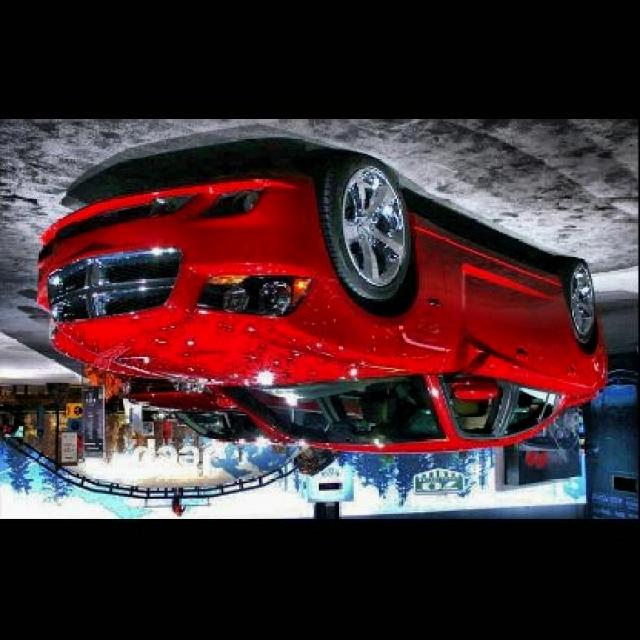red: (31, 170, 611, 456)
